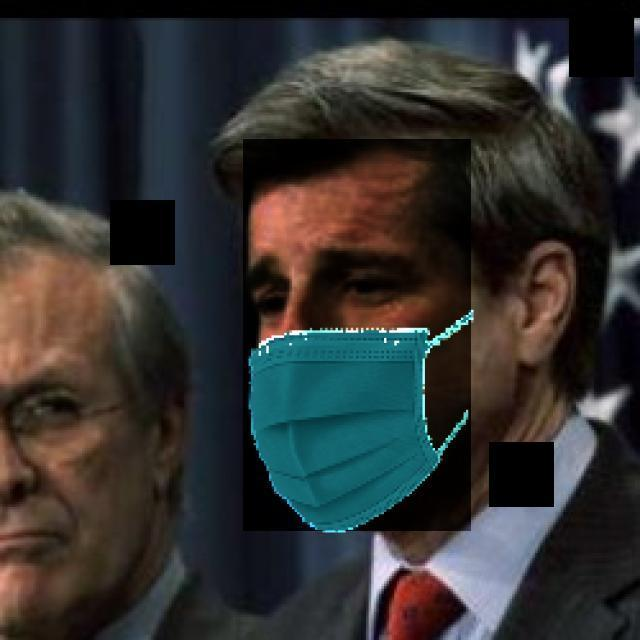surgical: (243, 139, 471, 531)
